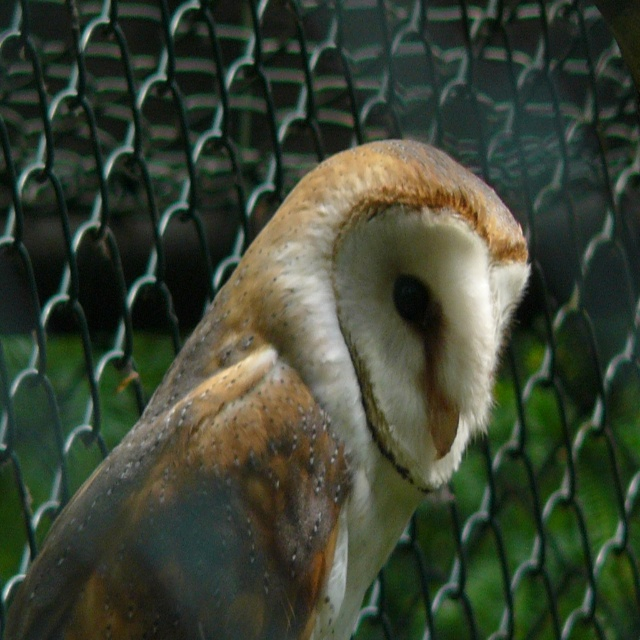Owl: (0, 135, 536, 639)
